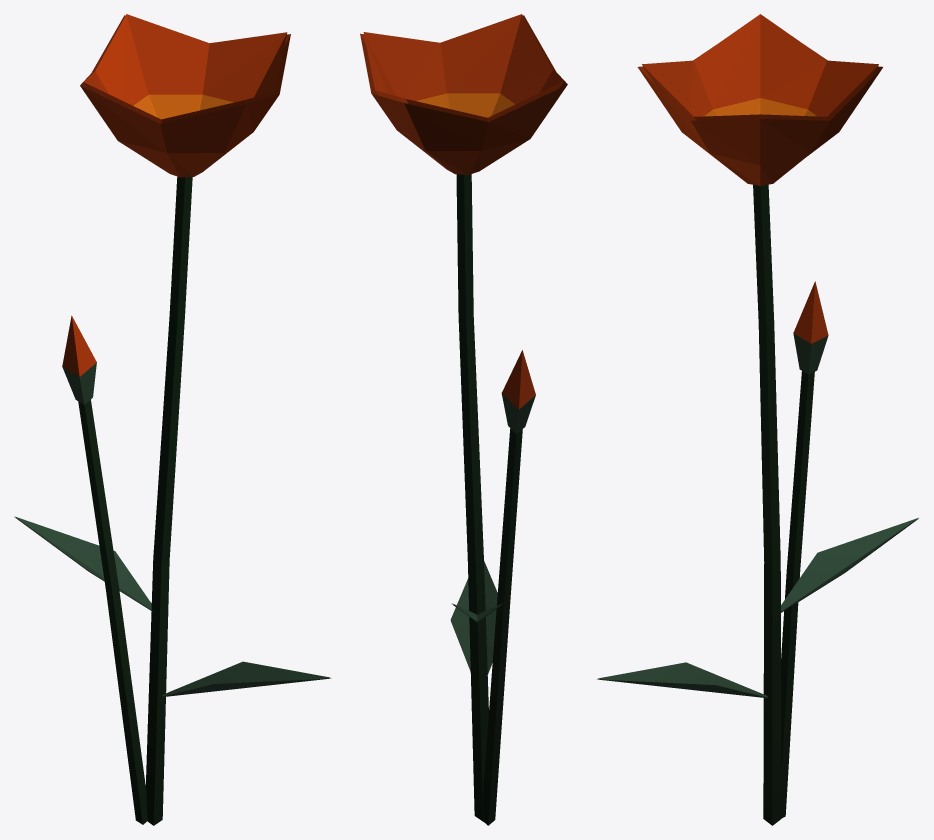
File: bloom_poppy.fbx
3 renders of one model, left to right at view 1: azimuth 30°, elevation 25°; view 2: azimuth 150°, elevation 25°; view 3: azimuth 270°, elevation 25°, orthographic. The views are drawn at different scales.
Visible parts, largest first — view 1: Bloom_Poppy; view 2: Bloom_Poppy; view 3: Bloom_Poppy.
Boxes of the visible parts, box(x1,y1,x2,y2) form: Bloom_Poppy: box(14, 14, 331, 825); Bloom_Poppy: box(360, 14, 567, 825); Bloom_Poppy: box(597, 14, 918, 825).
Bounding box in the file's own units: 0.082 × 0.2833 × 0.1076.
